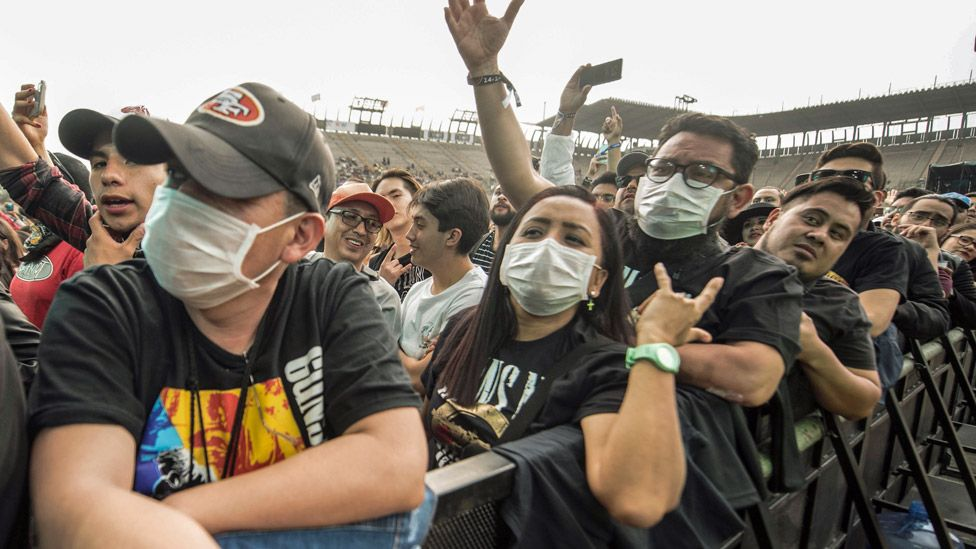with_mask: (168, 160, 233, 277), (640, 151, 728, 231), (518, 211, 585, 297)
without_mask: (92, 143, 142, 236), (792, 207, 844, 262), (902, 209, 951, 243), (343, 199, 371, 255), (407, 213, 439, 259)
